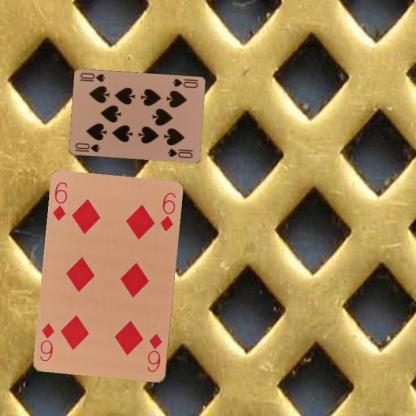10s: (72, 140, 101, 154), (170, 76, 199, 90)
6d: (50, 179, 70, 223), (145, 331, 164, 374)
